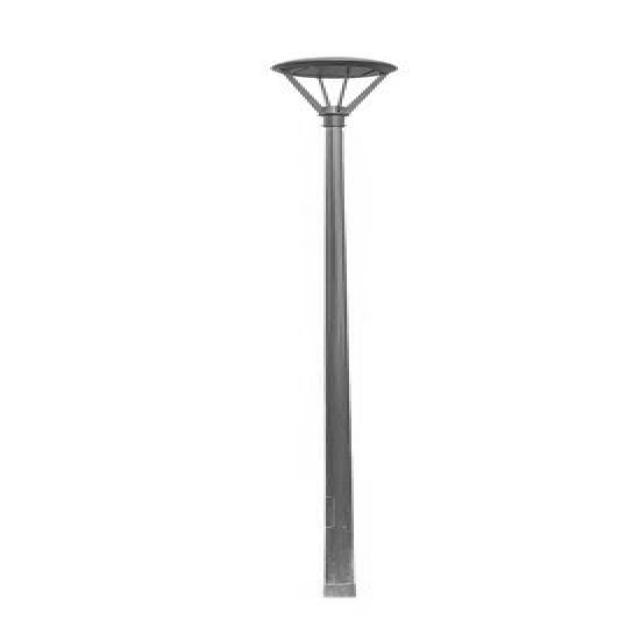Pole: (272, 56, 396, 599)
